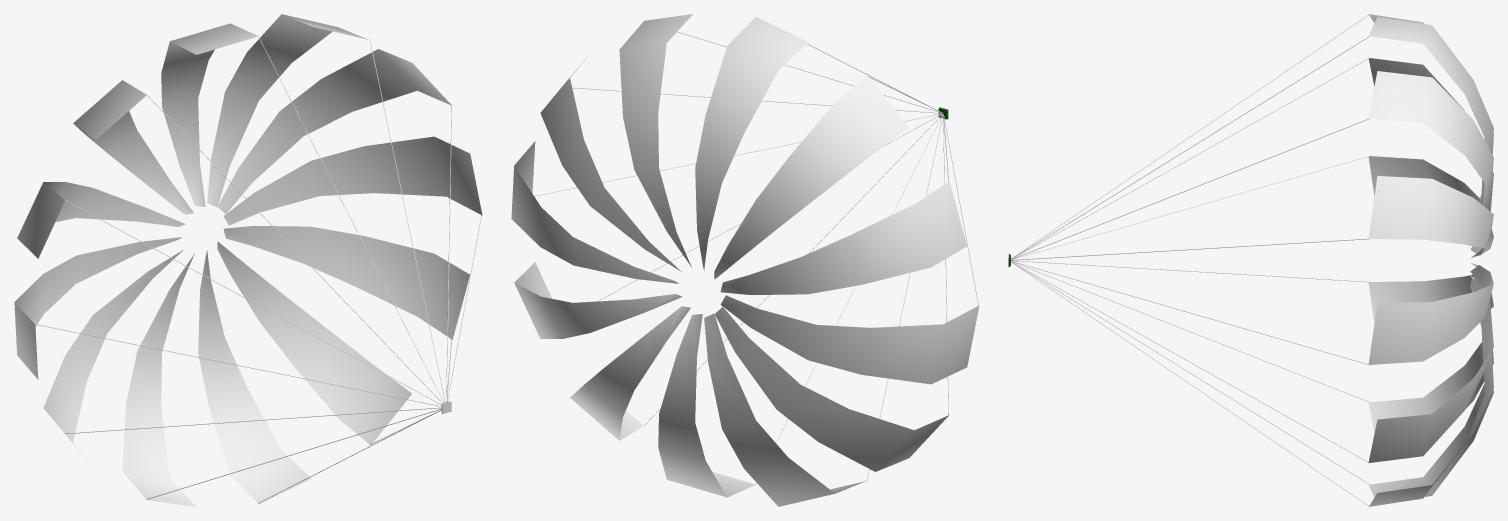
File: Veh_JiangLuoSan_on.FBX
3 views of the same model, side by side, from view 1: azimuth 30°, elevation 25°; view 2: azimuth 150°, elevation 25°; view 3: azimuth 270°, elevation 25° (orthographic). The views are drawn at different scales.
Parts seen in each view (by area): view 1: Box002; view 2: Box002; view 3: Box002.
Part boxes in pixels (x1,y1,x2,y2): Box002: (14, 14, 482, 506); Box002: (511, 14, 979, 506); Box002: (1008, 14, 1493, 506).
Size of the model in its own units: 46.77 by 46.77 by 45.92.
